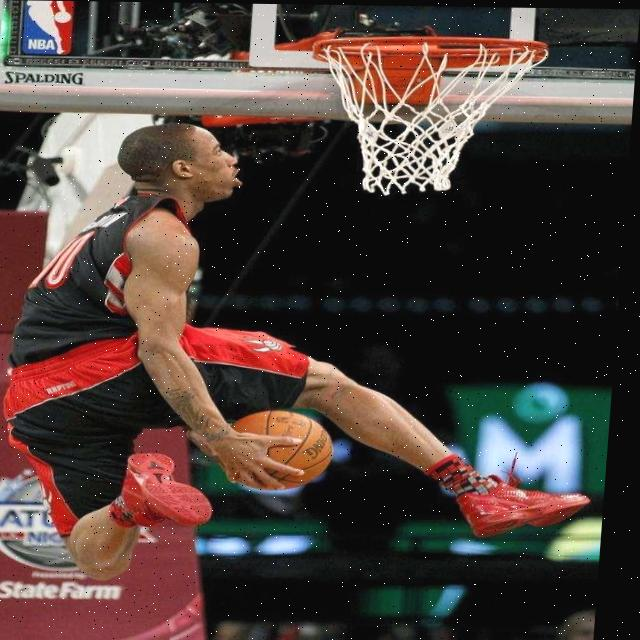basketball: (226, 407, 337, 492)
hoop: (298, 33, 553, 198)
